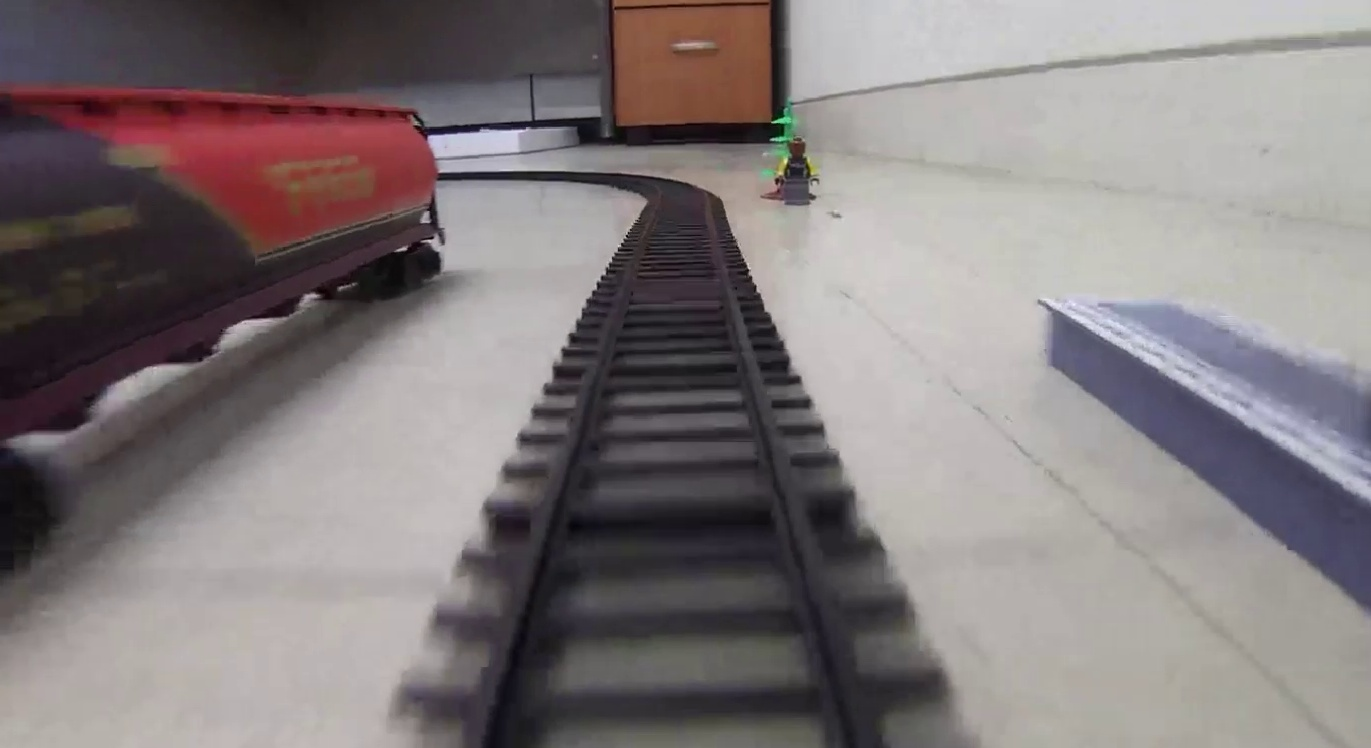people: (779, 139, 811, 207)
